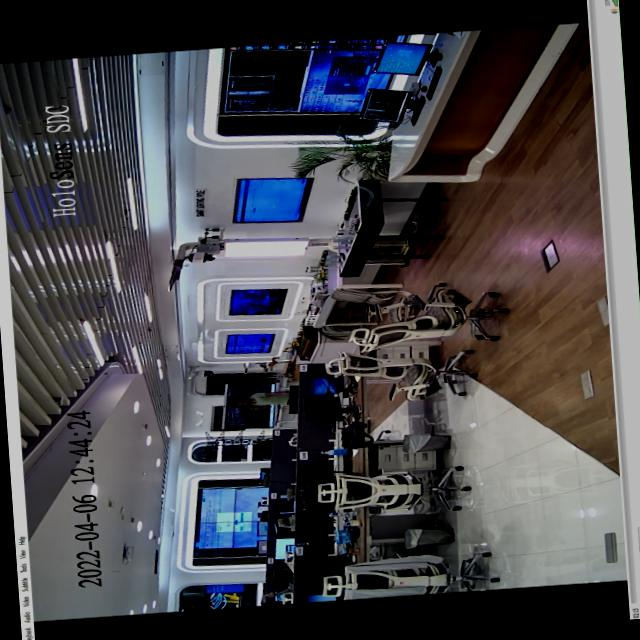long weapon: (219, 397, 281, 413)
